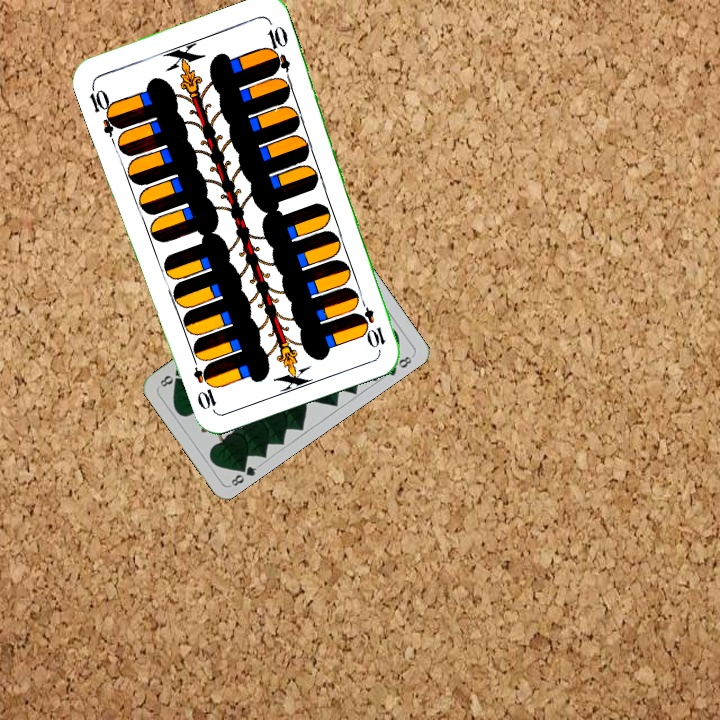E10: (85, 81, 124, 138), (354, 293, 388, 351)
G8: (227, 459, 262, 489)
